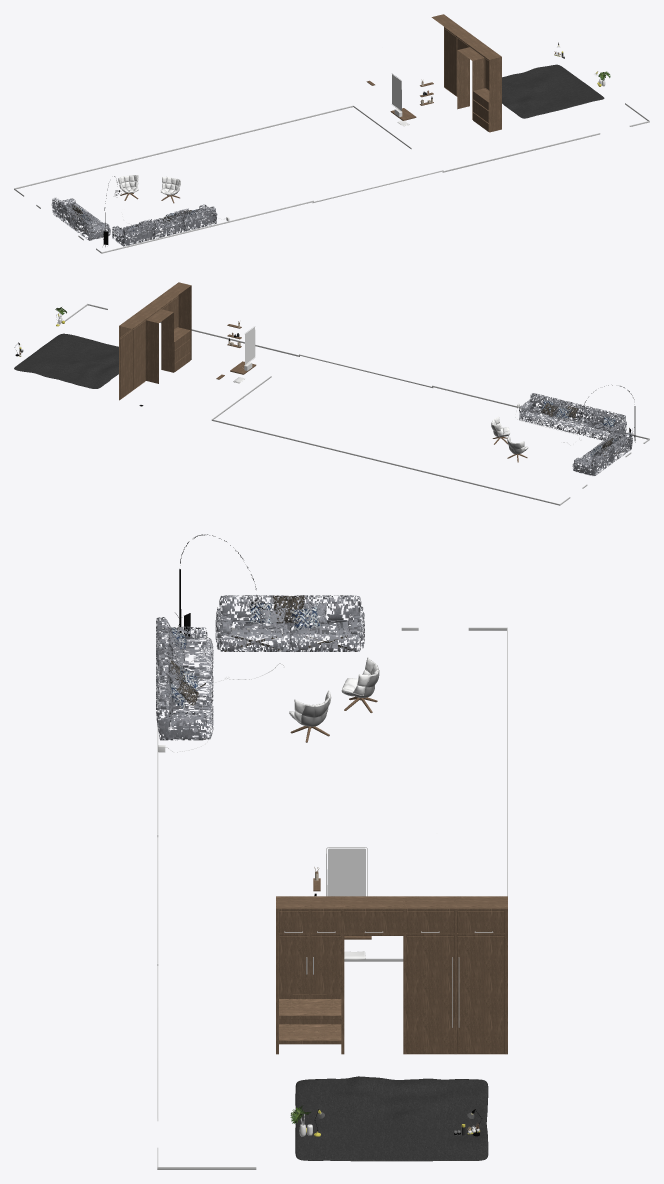
The model's file is casa-completa-04.glb.
The picture shows the model from 3 angles, top to bottom: view 1: azimuth 30°, elevation 25°; view 2: azimuth 150°, elevation 25°; view 3: azimuth 270°, elevation 25°; orthographic projection. The views are drawn at different scales.
Visible parts, largest first — view 1: BedroomWardrobes, CouchSet, BedroomRug, Baseboard, BathroomFurnitures; view 2: BedroomWardrobes, CouchSet, BedroomRug, Baseboard, BathroomFurnitures; view 3: BedroomWardrobes, CouchSet, BedroomRug, BathroomFurnitures, Baseboard.
Part boxes in pixels (left/top/right/bottom): BedroomWardrobes: left=431, top=14, right=501, bottom=132; CouchSet: left=51, top=175, right=217, bottom=246; BedroomRug: left=502, top=64, right=604, bottom=118; Baseboard: left=14, top=103, right=649, bottom=253; BathroomFurnitures: left=366, top=73, right=433, bottom=126; BedroomWardrobes: left=119, top=282, right=191, bottom=400; CouchSet: left=491, top=385, right=635, bottom=475; BedroomRug: left=14, top=333, right=118, bottom=388; Baseboard: left=64, top=303, right=649, bottom=505; BathroomFurnitures: left=139, top=321, right=256, bottom=406; BedroomWardrobes: left=276, top=896, right=507, bottom=1054; CouchSet: left=156, top=534, right=379, bottom=742; BedroomRug: left=295, top=1076, right=488, bottom=1161; BathroomFurnitures: left=313, top=847, right=371, bottom=959; Baseboard: left=157, top=627, right=507, bottom=1169.
Bounding box in the file's own units: 24.18 × 3.12 × 6.73.
Materials: 31 (13 with a texture image).
